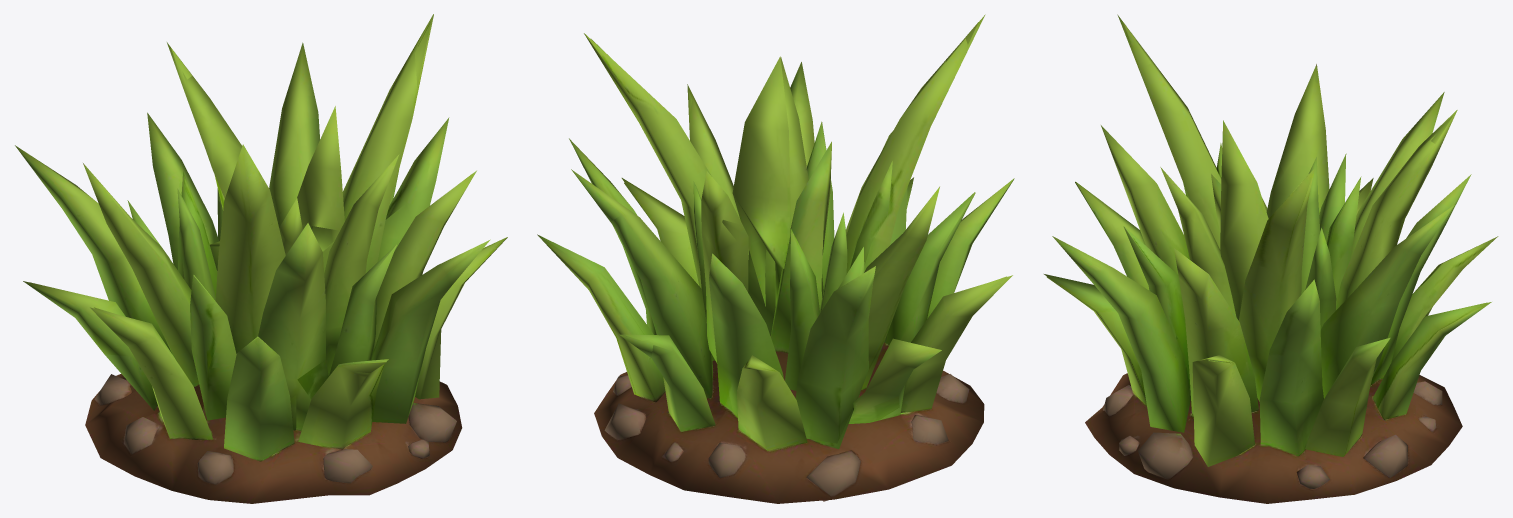
3 renders of one model, left to right at view 1: azimuth 30°, elevation 25°; view 2: azimuth 150°, elevation 25°; view 3: azimuth 270°, elevation 25°, orthographic. The views are drawn at different scales.
Visible parts, largest first — view 1: tripo_node_142eb6f4-f255-4094-90b1-c923b58f93c3; view 2: tripo_node_142eb6f4-f255-4094-90b1-c923b58f93c3; view 3: tripo_node_142eb6f4-f255-4094-90b1-c923b58f93c3.
Boxes of the visible parts, x1=… form: tripo_node_142eb6f4-f255-4094-90b1-c923b58f93c3: x1=15, y1=14, x2=507, y2=503; tripo_node_142eb6f4-f255-4094-90b1-c923b58f93c3: x1=537, y1=14, x2=1014, y2=503; tripo_node_142eb6f4-f255-4094-90b1-c923b58f93c3: x1=1044, y1=14, x2=1498, y2=503.
Bounding box in the file's own units: 0.2805 × 0.25 × 0.2834.
Materials: 1 (1 with a texture image).
